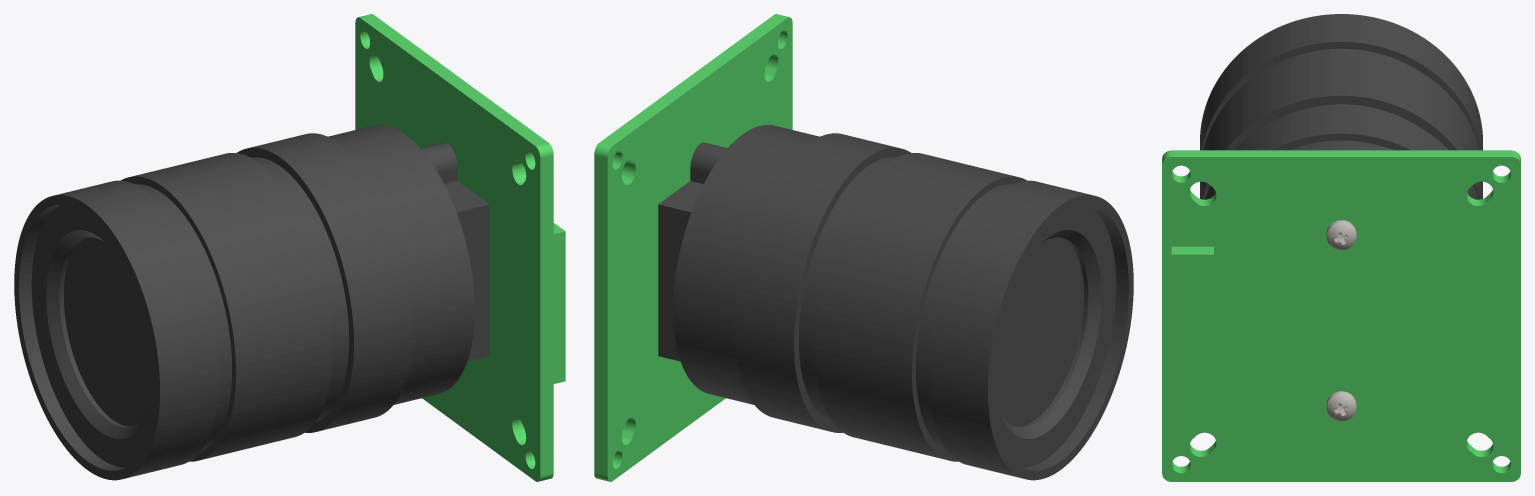
Rendered from arducam_imx477.dae.
3 renders of one model, left to right at view 1: azimuth 30°, elevation 25°; view 2: azimuth 150°, elevation 25°; view 3: azimuth 270°, elevation 25°, orthographic. The views are drawn at different scales.
Visible parts, largest first — view 1: node1, node0; view 2: node1, node0; view 3: node0, node1, node2, node3.
Part boxes in pixels (bbox=[...]): node1: bbox=[14, 125, 489, 480]; node0: bbox=[355, 14, 565, 481]; node1: bbox=[658, 125, 1133, 480]; node0: bbox=[594, 14, 792, 481]; node0: bbox=[1162, 150, 1520, 481]; node1: bbox=[1200, 14, 1482, 199]; node2: bbox=[1326, 220, 1356, 250]; node3: bbox=[1326, 391, 1356, 421].
Size of the model in its own units: 0.0464 by 0.038 by 0.038.
